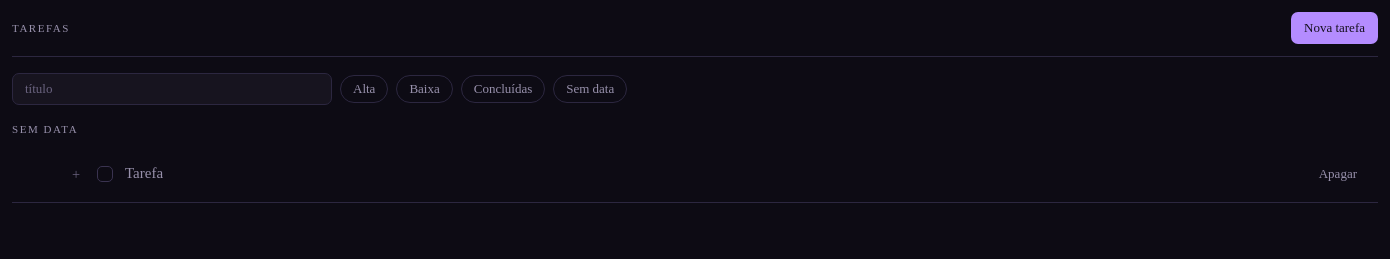
TasksPanel › o campo de subtarefa só aparece depois de clicar no +
Click the button named "adicionar subtarefa em Tarefa": (76,174) x1=67 y1=165 x2=85 y2=183
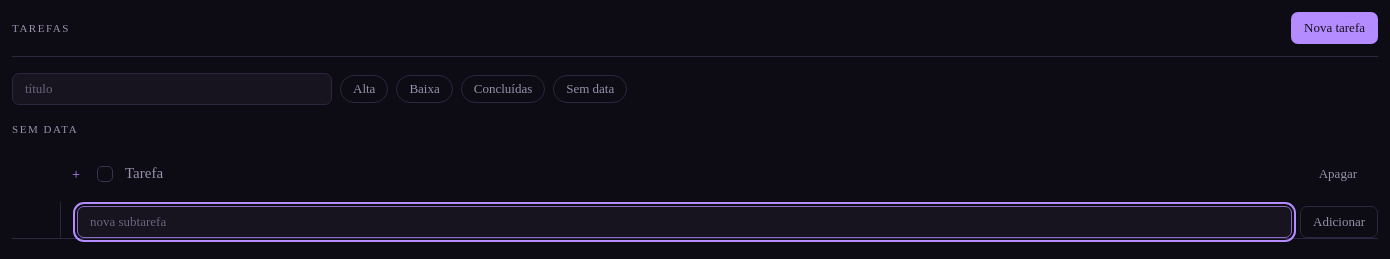
Result: the field named "nova subtarefa de Tarefa" is shown at x1=77 y1=206 x2=1292 y2=238
